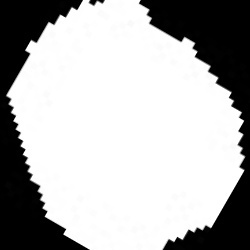spot: (7, 3, 243, 248)
